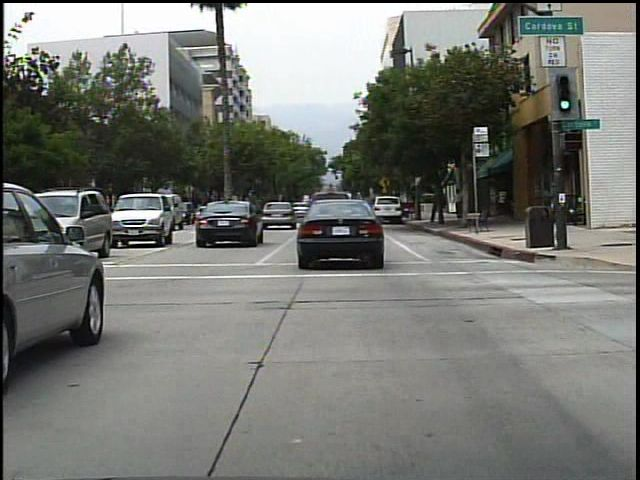car: (1, 178, 108, 390), (293, 200, 388, 271), (115, 195, 173, 246), (195, 196, 254, 244), (260, 198, 296, 230)
